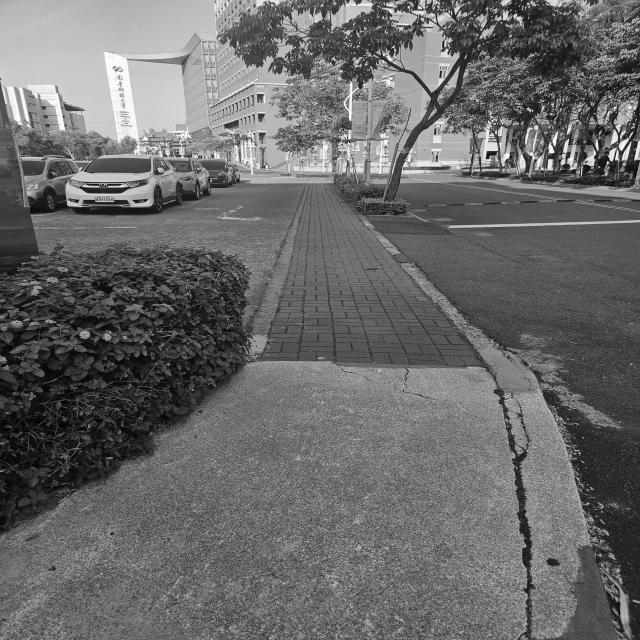Road-Object: (0, 165, 640, 640)
